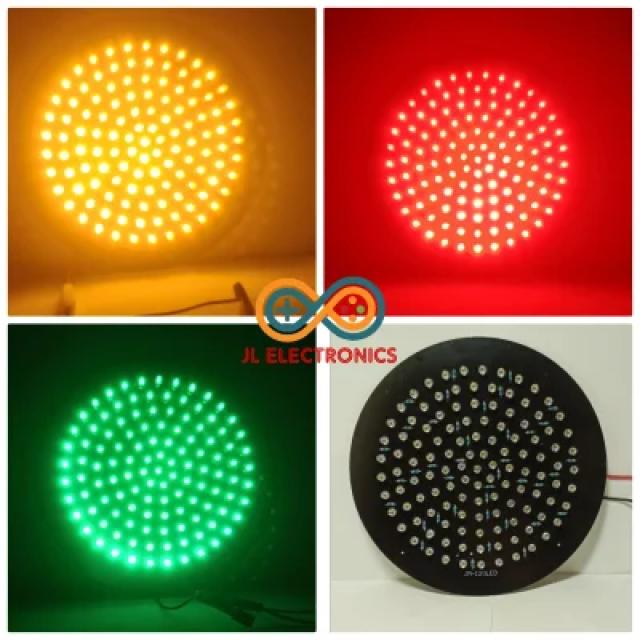Hijau: (56, 373, 256, 576)
Kuning: (41, 39, 247, 246)
Merah: (384, 68, 573, 255)
